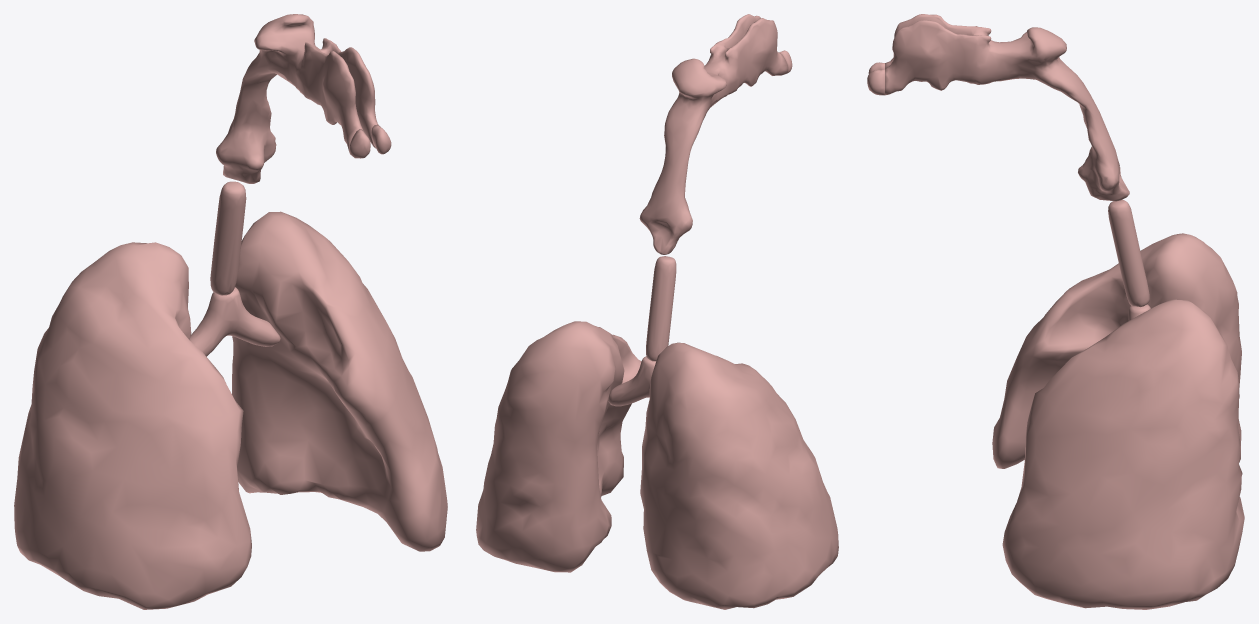
File: pediatric_infant_male.respiratory.LOD0.glb
3 views of the same model, side by side, from view 1: azimuth 30°, elevation 25°; view 2: azimuth 150°, elevation 25°; view 3: azimuth 270°, elevation 25° (orthographic). The views are drawn at different scales.
Visible parts, largest first — view 1: PEDIATRIC.INFANT.MALE.RESPIRATORY.LUNG.R, PEDIATRIC.INFANT.MALE.RESPIRATORY.LUNG.L, PEDIATRIC.INFANT.MALE.RESPIRATORY.ET2, PEDIATRIC.INFANT.MALE.RESPIRATORY.BB1, PEDIATRIC.INFANT.MALE.RESPIRATORY.TRACHEA, PEDIATRIC.INFANT.MALE.RESPIRATORY.ET1; view 2: PEDIATRIC.INFANT.MALE.RESPIRATORY.LUNG.R, PEDIATRIC.INFANT.MALE.RESPIRATORY.LUNG.L, PEDIATRIC.INFANT.MALE.RESPIRATORY.ET2, PEDIATRIC.INFANT.MALE.RESPIRATORY.TRACHEA, PEDIATRIC.INFANT.MALE.RESPIRATORY.BB1; view 3: PEDIATRIC.INFANT.MALE.RESPIRATORY.LUNG.L, PEDIATRIC.INFANT.MALE.RESPIRATORY.LUNG.R, PEDIATRIC.INFANT.MALE.RESPIRATORY.ET2, PEDIATRIC.INFANT.MALE.RESPIRATORY.TRACHEA, PEDIATRIC.INFANT.MALE.RESPIRATORY.ET1.
Boxes of the visible parts, x1,y1,x2,y2 form: PEDIATRIC.INFANT.MALE.RESPIRATORY.LUNG.R: (14, 242, 251, 609); PEDIATRIC.INFANT.MALE.RESPIRATORY.LUNG.L: (232, 211, 447, 551); PEDIATRIC.INFANT.MALE.RESPIRATORY.ET2: (216, 14, 378, 183); PEDIATRIC.INFANT.MALE.RESPIRATORY.BB1: (189, 287, 280, 356); PEDIATRIC.INFANT.MALE.RESPIRATORY.TRACHEA: (210, 181, 246, 295); PEDIATRIC.INFANT.MALE.RESPIRATORY.ET1: (349, 124, 391, 158); PEDIATRIC.INFANT.MALE.RESPIRATORY.LUNG.R: (640, 342, 838, 609); PEDIATRIC.INFANT.MALE.RESPIRATORY.LUNG.L: (476, 321, 641, 572); PEDIATRIC.INFANT.MALE.RESPIRATORY.ET2: (639, 14, 788, 254); PEDIATRIC.INFANT.MALE.RESPIRATORY.TRACHEA: (646, 256, 676, 361); PEDIATRIC.INFANT.MALE.RESPIRATORY.BB1: (608, 356, 655, 406); PEDIATRIC.INFANT.MALE.RESPIRATORY.LUNG.L: (1002, 299, 1244, 609); PEDIATRIC.INFANT.MALE.RESPIRATORY.LUNG.R: (992, 233, 1241, 468); PEDIATRIC.INFANT.MALE.RESPIRATORY.ET2: (885, 14, 1129, 201); PEDIATRIC.INFANT.MALE.RESPIRATORY.TRACHEA: (1108, 199, 1149, 307); PEDIATRIC.INFANT.MALE.RESPIRATORY.ET1: (867, 62, 884, 95).
Size of the model in its own units: 0.1372 by 0.1924 by 0.1283.
